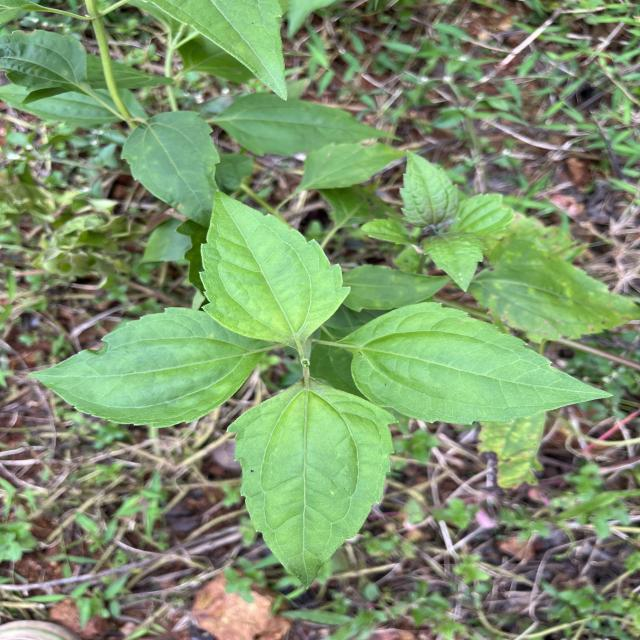Chromolaena odorata: (222, 374, 404, 593), (328, 298, 618, 428), (24, 304, 274, 431), (194, 182, 355, 356)
